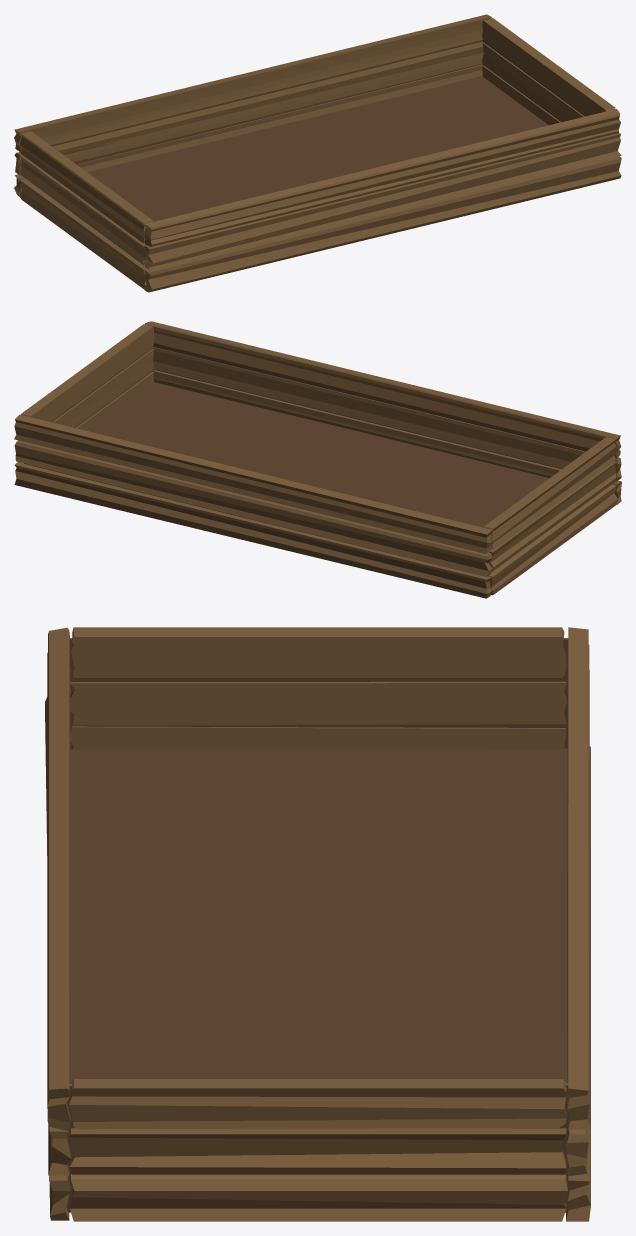
Rendered from mod_RaisedBed.fbx.
3 renders of one model, top to bottom at view 1: azimuth 30°, elevation 25°; view 2: azimuth 150°, elevation 25°; view 3: azimuth 270°, elevation 25°, orthographic. The views are drawn at different scales.
Parts seen in each view (by area): view 1: RaisedBed; view 2: RaisedBed; view 3: RaisedBed.
Boxes of the visible parts, x1,y1,x2,y2 form: RaisedBed: (14, 14, 621, 292); RaisedBed: (14, 321, 621, 598); RaisedBed: (45, 627, 590, 1221).
Bounding box in the file's own units: 1602 × 215 × 801.
